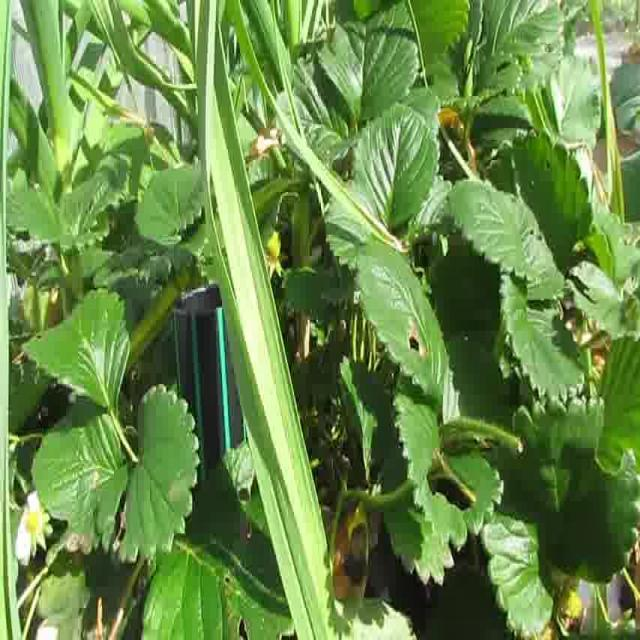Fruta sana: (556, 585, 584, 620), (528, 618, 562, 640), (266, 228, 280, 260), (26, 512, 40, 532)
